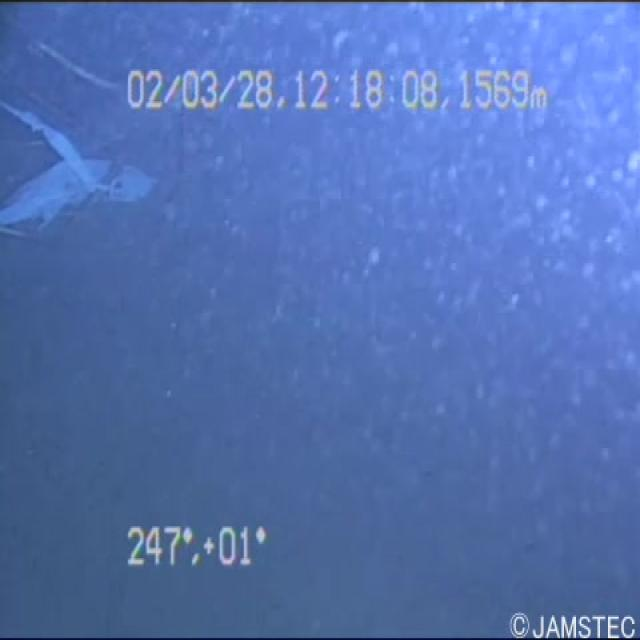plastic: (0, 62, 164, 263)
